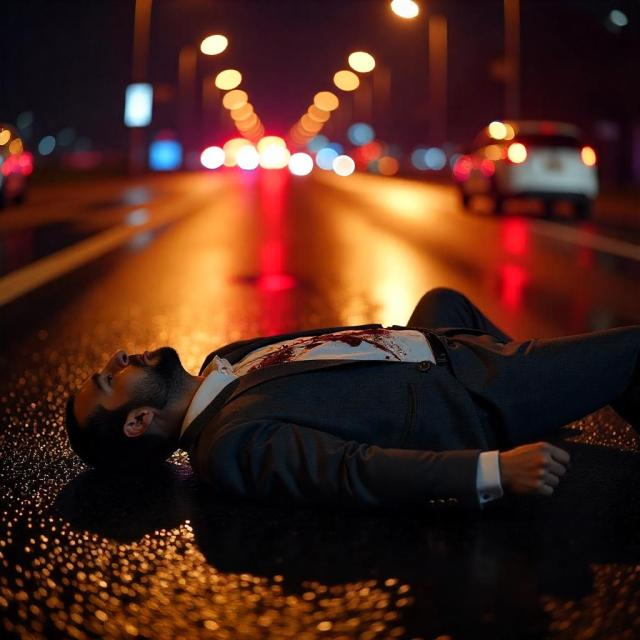injury: (65, 347, 204, 472)
no injury: (64, 288, 639, 544)
